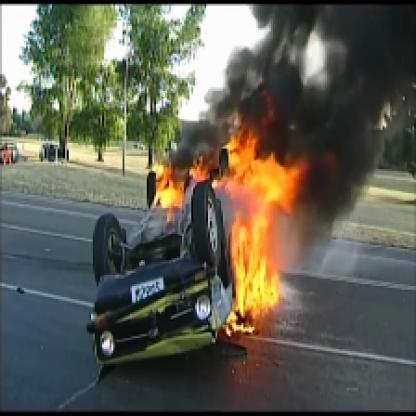Fire: (150, 106, 327, 342)
